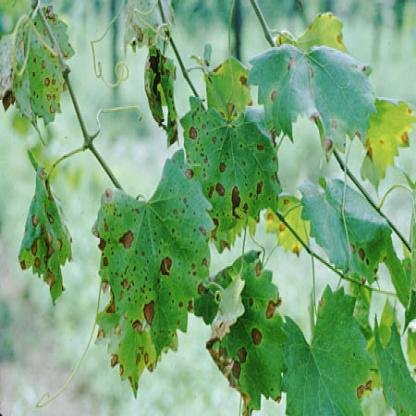grape leaf black rot: (87, 150, 207, 391), (248, 18, 377, 148), (202, 244, 293, 415), (181, 101, 275, 250), (289, 165, 390, 291), (288, 294, 373, 415), (16, 157, 78, 309), (30, 6, 76, 140), (1, 16, 43, 148), (140, 28, 182, 150), (372, 318, 415, 415)
